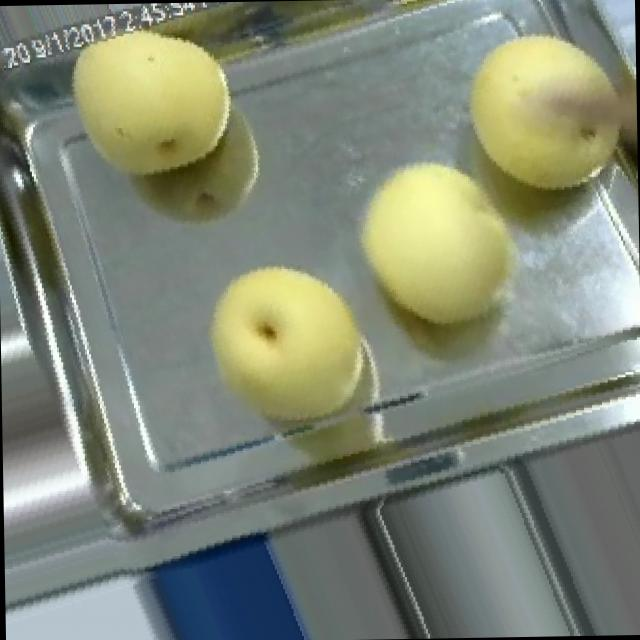Fruit: (177, 234, 400, 456), (332, 133, 548, 354), (46, 6, 260, 218), (442, 4, 638, 216)
